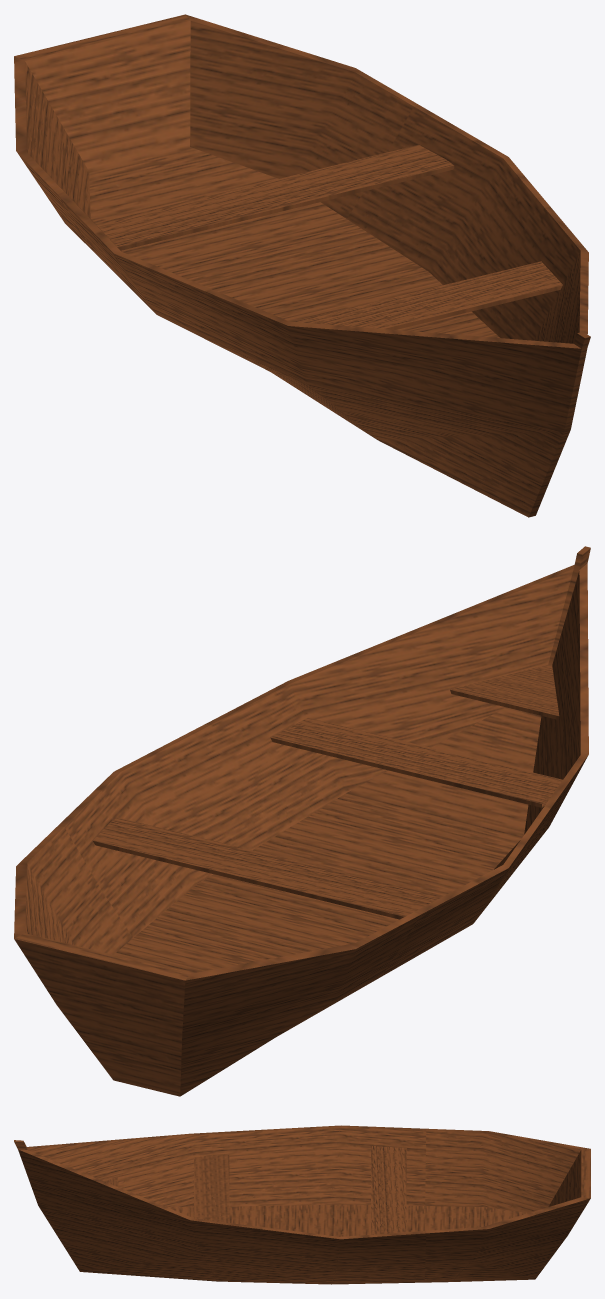
Rendered from Final_Boat.fbx.
The picture shows the model from 3 angles, top to bottom: view 1: azimuth 30°, elevation 25°; view 2: azimuth 150°, elevation 25°; view 3: azimuth 270°, elevation 25°; orthographic projection. The views are drawn at different scales.
Visible parts, largest first — view 1: Boat; view 2: Boat; view 3: Boat.
Boxes of the visible parts, x1,y1,x2,y2 form: Boat: (14,14,590,517); Boat: (14,546,590,1096); Boat: (14,1125,590,1284).
Bounding box in the file's own units: 2.09 × 1.11 × 4.48.
